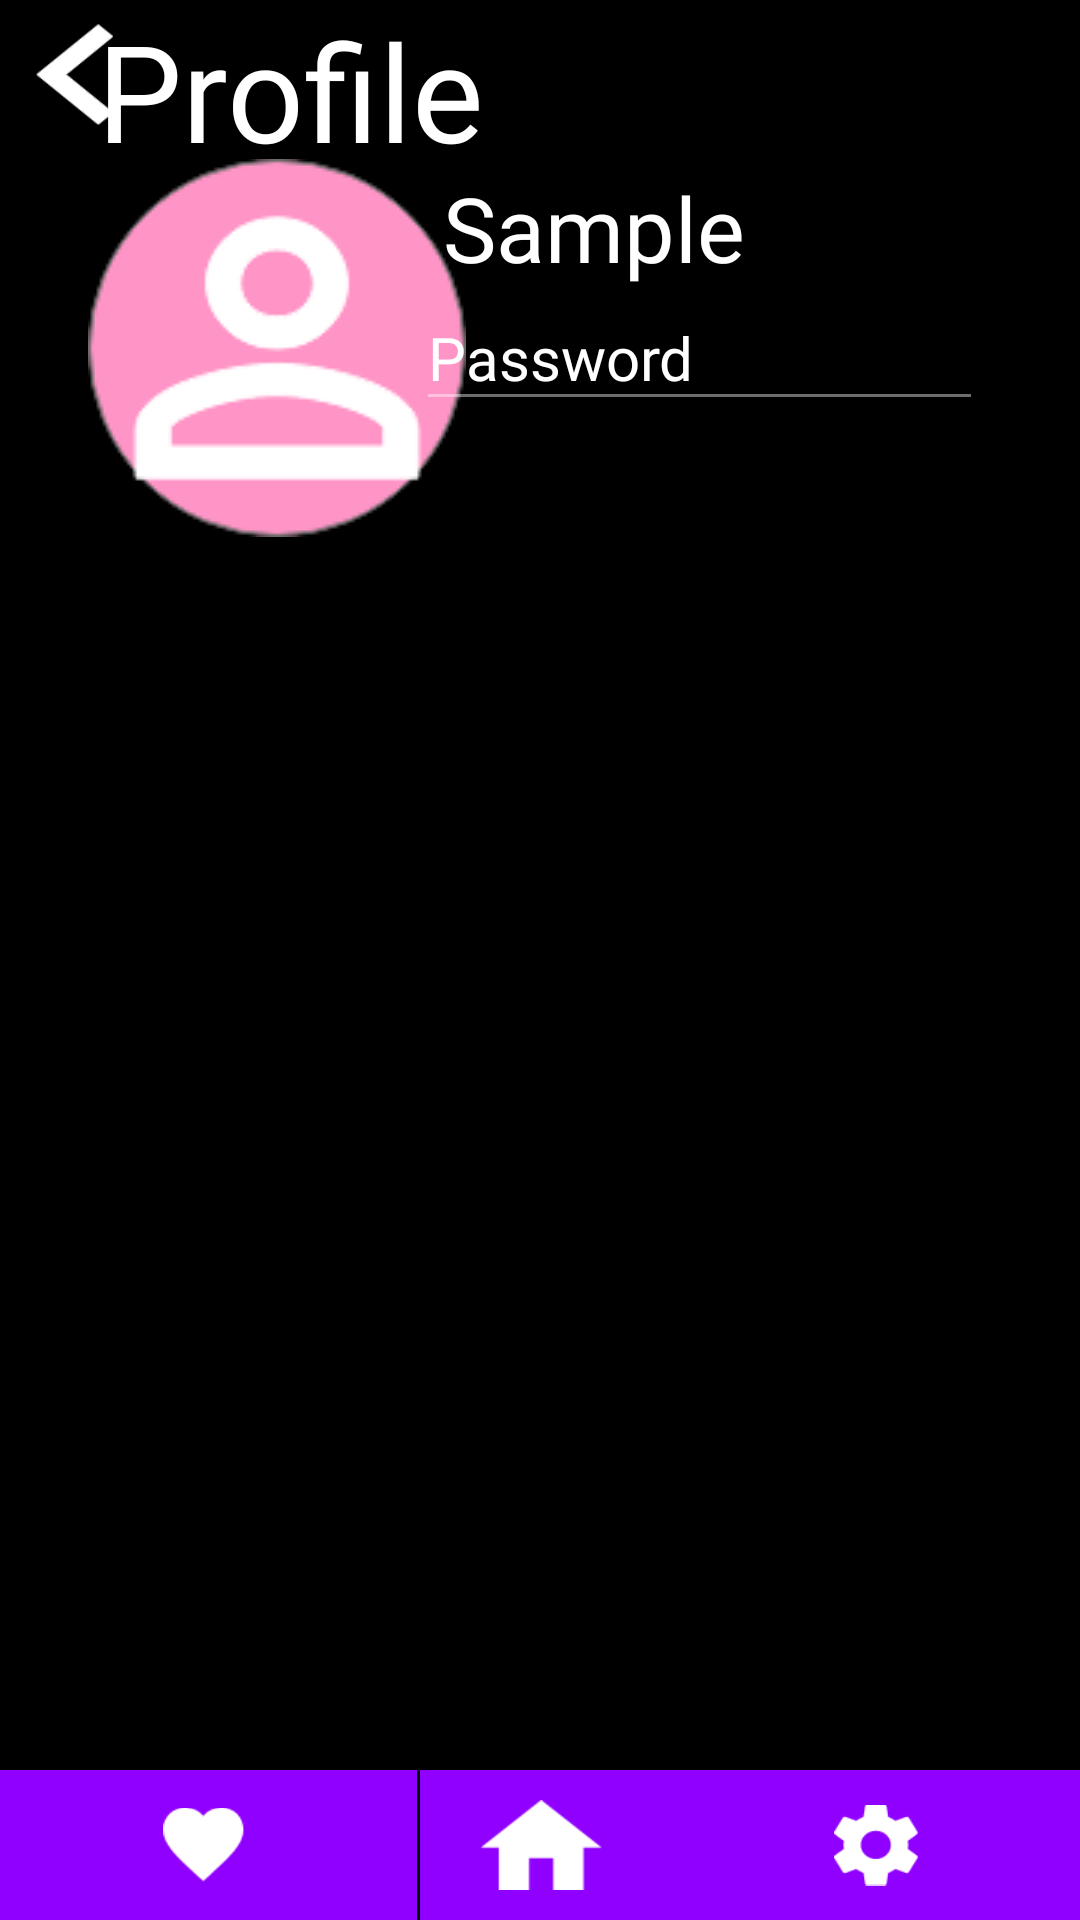

Icon bounding boxes for this 1080w x 1920h phone screenshot, format BBox(x1, y1, x2, y2):
home: BBox(481, 1800, 602, 1890)
